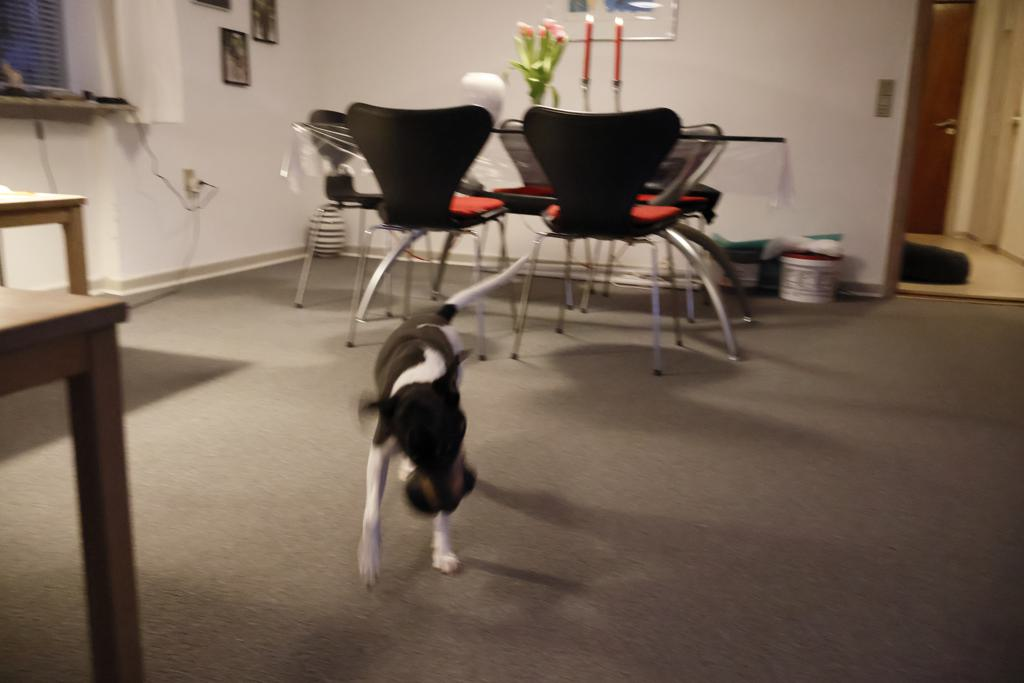Dog: (341, 240, 542, 603)
